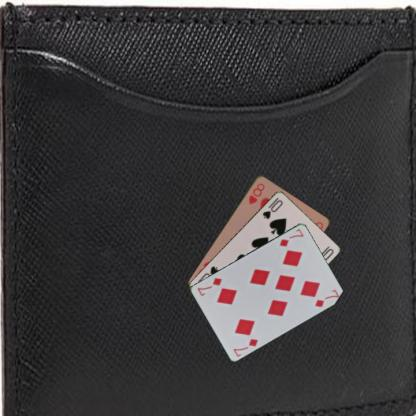10s: (260, 195, 284, 220)
7d: (231, 336, 260, 358), (277, 226, 305, 248)
8h: (246, 180, 266, 205)
